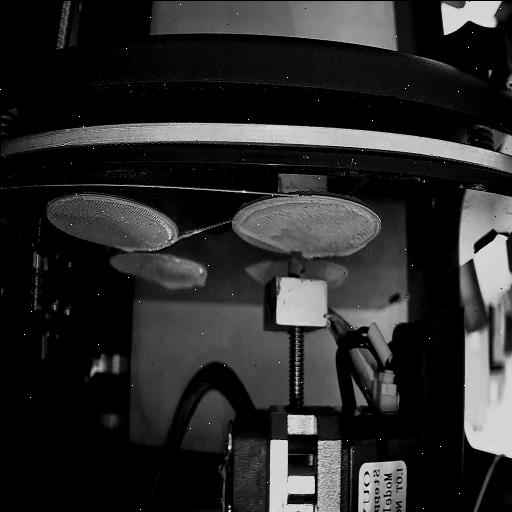over_extrusion: (238, 222, 293, 254), (160, 269, 210, 289), (338, 240, 368, 256), (330, 262, 348, 280), (116, 244, 135, 252)
